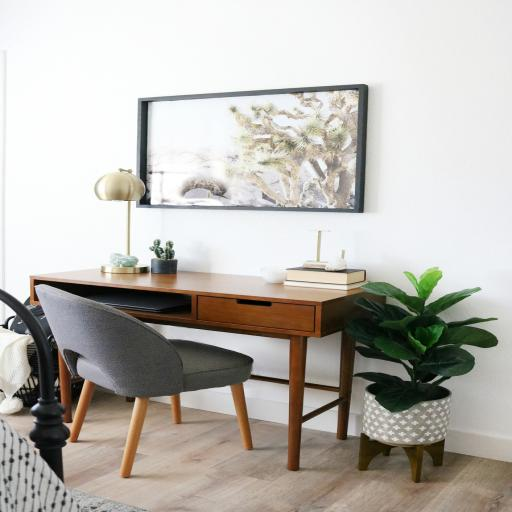chair: (34, 284, 254, 478)
desk: (28, 266, 387, 471)
wall: (1, 0, 512, 462)
